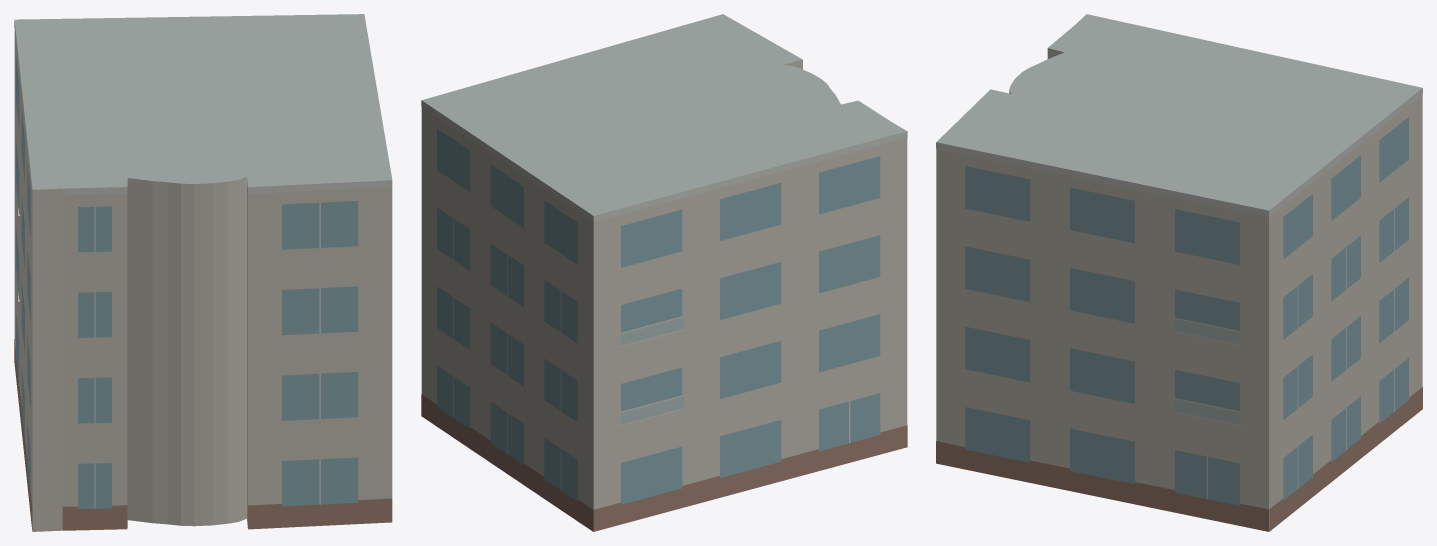
The model's file is survey-upis-32885240.glb.
3 renders of one model, left to right at view 1: azimuth 30°, elevation 25°; view 2: azimuth 150°, elevation 25°; view 3: azimuth 270°, elevation 25°, orthographic. The views are drawn at different scales.
Visible parts, largest first — view 1: survey-upis-32885240.tmp; view 2: survey-upis-32885240.tmp; view 3: survey-upis-32885240.tmp.
Part boxes in pixels (x1,y1,x2,y2): survey-upis-32885240.tmp: (14, 14, 392, 531); survey-upis-32885240.tmp: (421, 14, 907, 531); survey-upis-32885240.tmp: (936, 14, 1422, 531).
Size of the model in its own units: 16.02 by 12.2 by 16.76.
